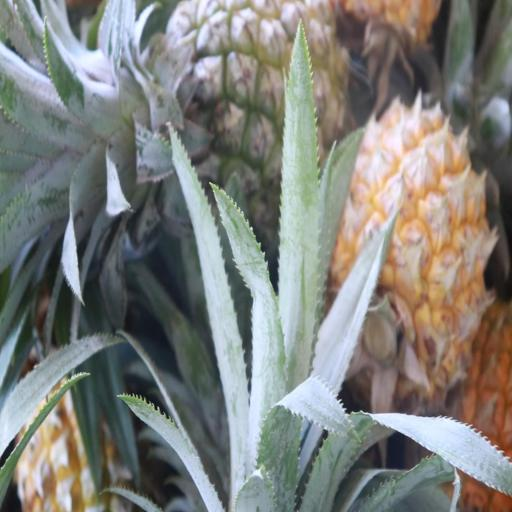Pineapple - v8 v1: (334, 108, 492, 391)
